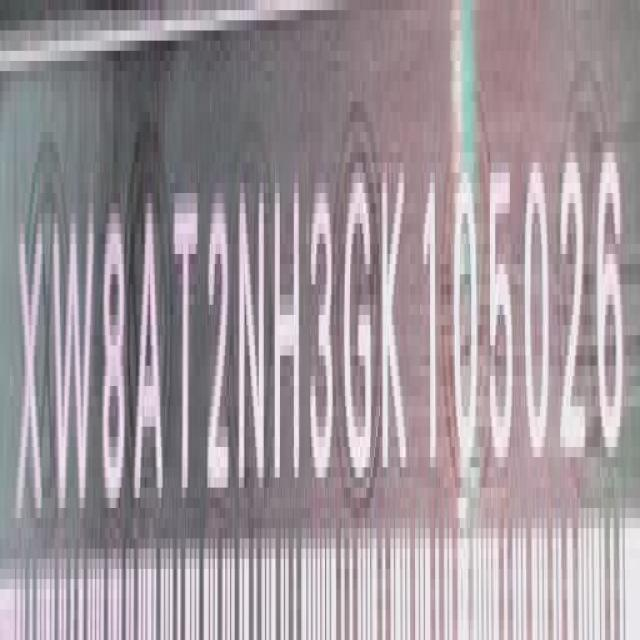0: (454, 158, 482, 482), (524, 154, 551, 472)
1: (420, 154, 440, 485)
2: (560, 148, 590, 469), (206, 185, 232, 510)
3: (308, 172, 338, 494)
5: (488, 147, 518, 474)
6: (598, 138, 626, 469)
8: (103, 209, 129, 522)
A: (136, 197, 166, 516)
G: (340, 158, 375, 485)
H: (273, 172, 302, 498)
K: (384, 151, 414, 488)
N: (235, 169, 267, 503)
T: (174, 184, 200, 514)
W: (51, 207, 93, 529)
X: (16, 214, 46, 535)
